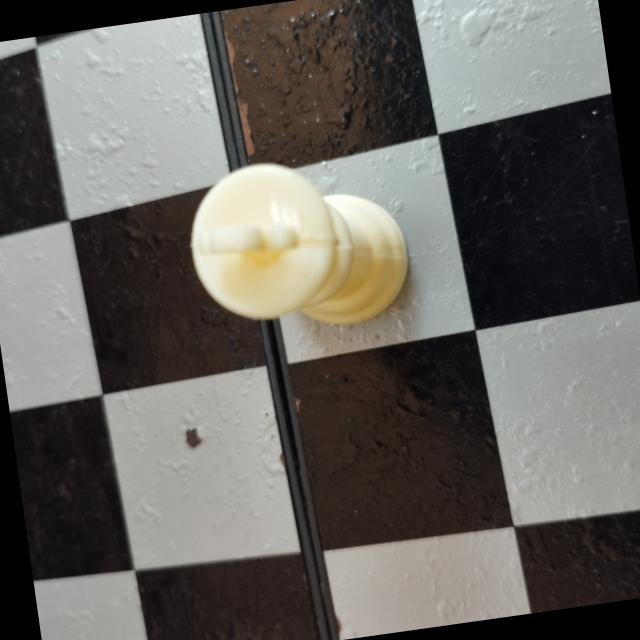White King: (176, 138, 427, 352)
